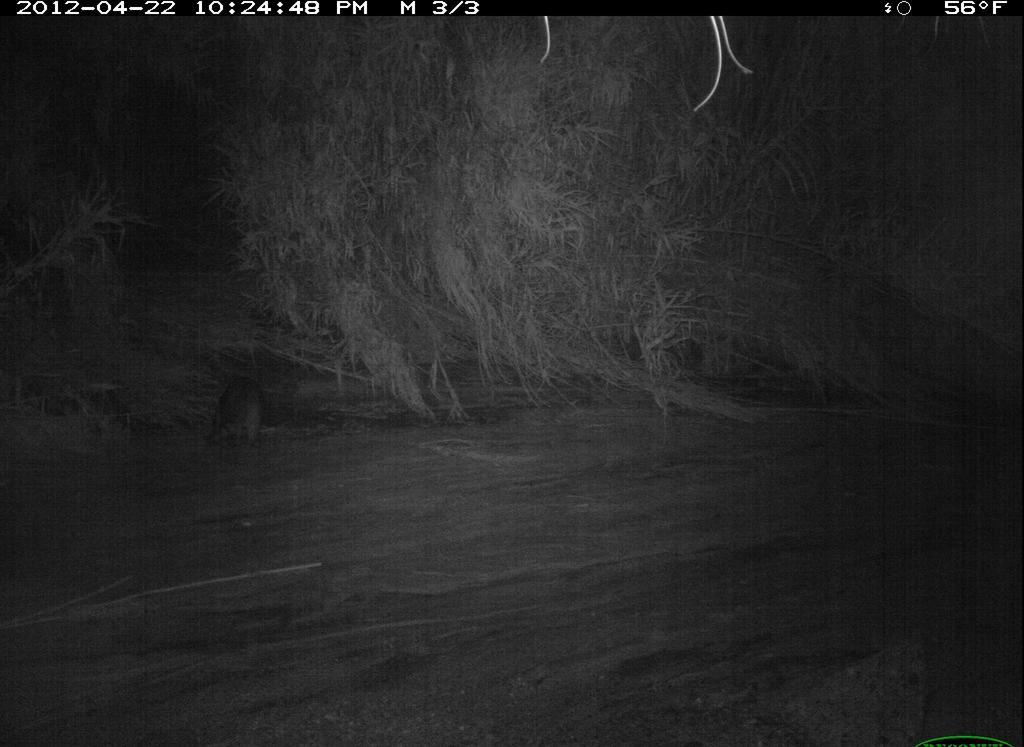raccoon: (198, 363, 286, 465)
